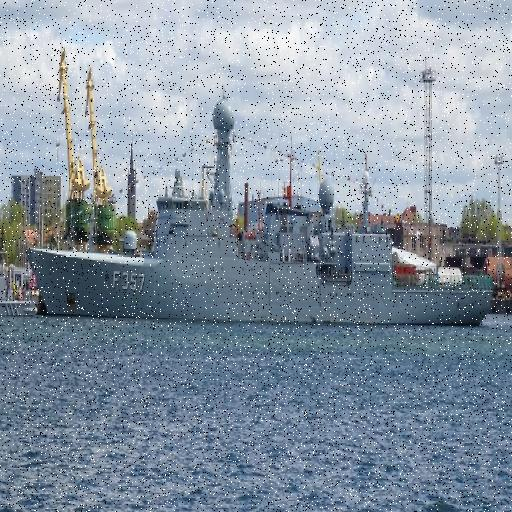Fragata: (23, 80, 497, 322)
